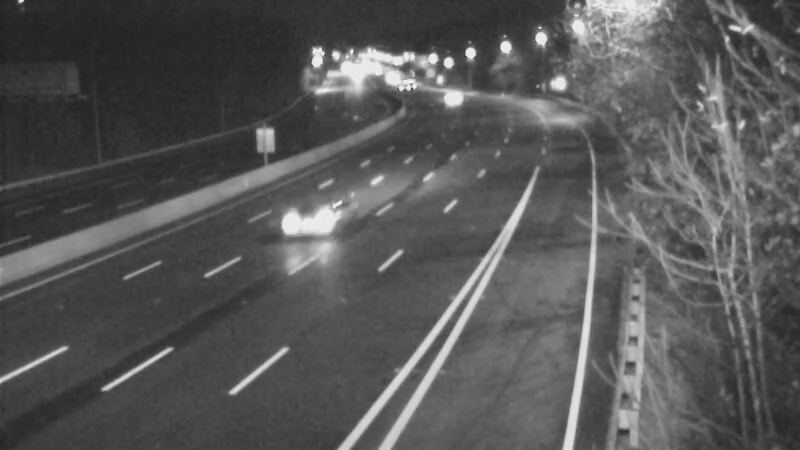vehicle: (269, 182, 349, 262), (380, 63, 430, 113), (424, 71, 474, 121)
